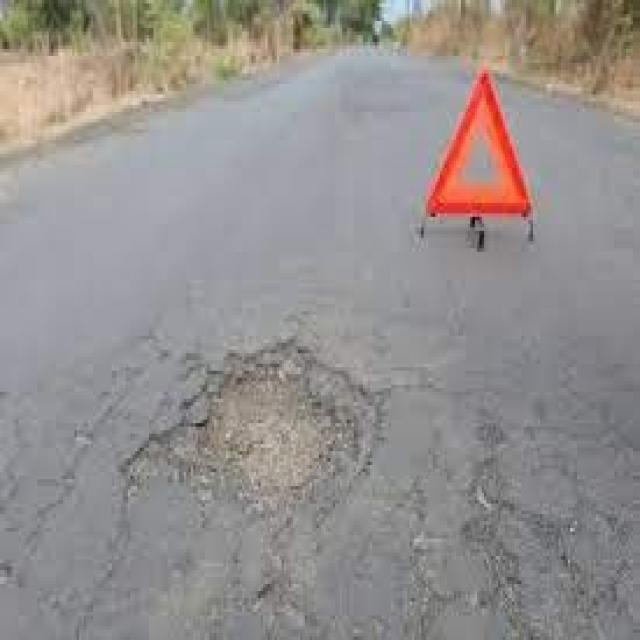Pothole: (144, 343, 375, 514)
